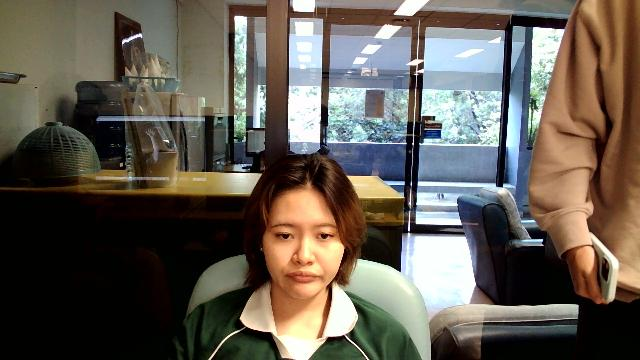fokus: (264, 193, 343, 299)
